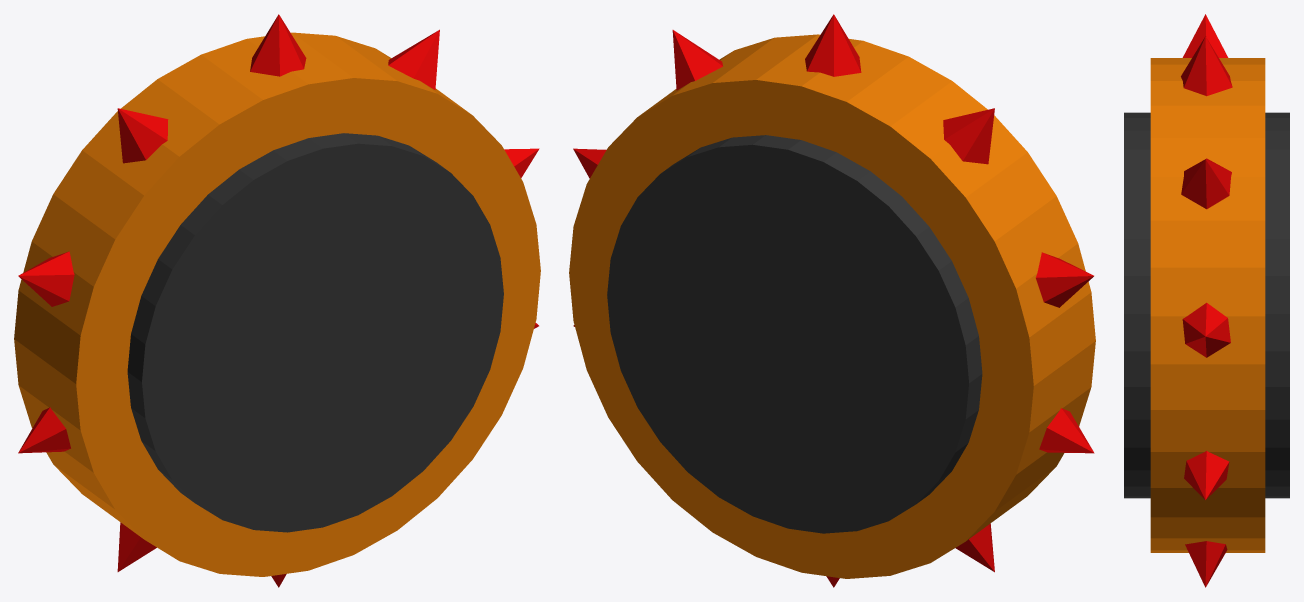
File: groundObstacle.fbx
3 renders of one model, left to right at view 1: azimuth 30°, elevation 25°; view 2: azimuth 150°, elevation 25°; view 3: azimuth 270°, elevation 25°, orthographic. The views are drawn at different scales.
Parts seen in each view (by area): view 1: Cylinder.001, Cylinder, Icosphere.002; view 2: Cylinder.001, Cylinder, Icosphere.002; view 3: Cylinder, Cylinder.001, Icosphere.002.
Part boxes in pixels (box(x1,y1,x2,y2)): Cylinder.001: box(127, 133, 503, 532); Cylinder: box(14, 32, 540, 576); Icosphere.002: box(18, 14, 539, 587); Cylinder.001: box(607, 135, 982, 533); Cylinder: box(569, 34, 1095, 578); Icosphere.002: box(573, 14, 1094, 587); Cylinder: box(1150, 58, 1265, 552); Cylinder.001: box(1124, 112, 1289, 498); Icosphere.002: box(1181, 14, 1232, 587).
Size of the model in its own units: 190 by 200 by 56.74.
